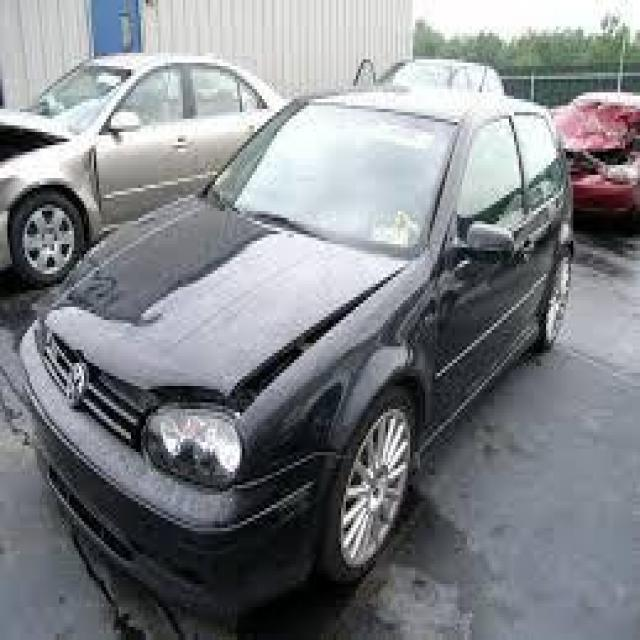damaged: (44, 294, 370, 406)
